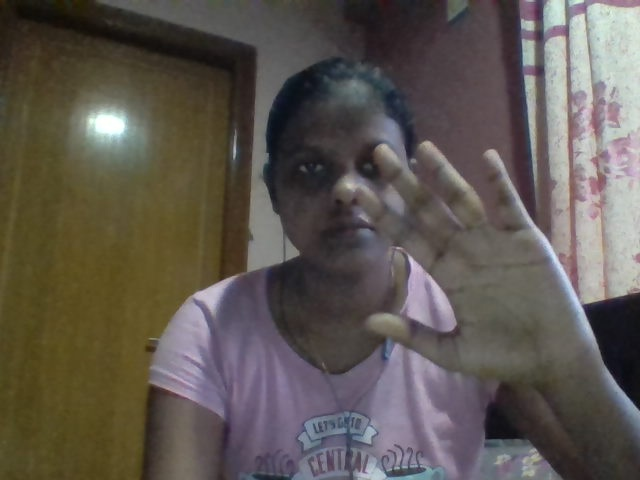Hello: (293, 122, 635, 417)
